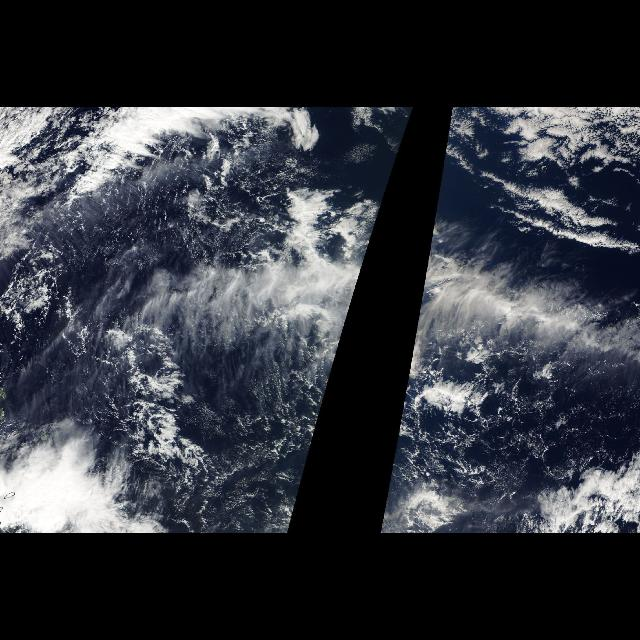Fish: (92, 194, 386, 398), (402, 194, 628, 398)
